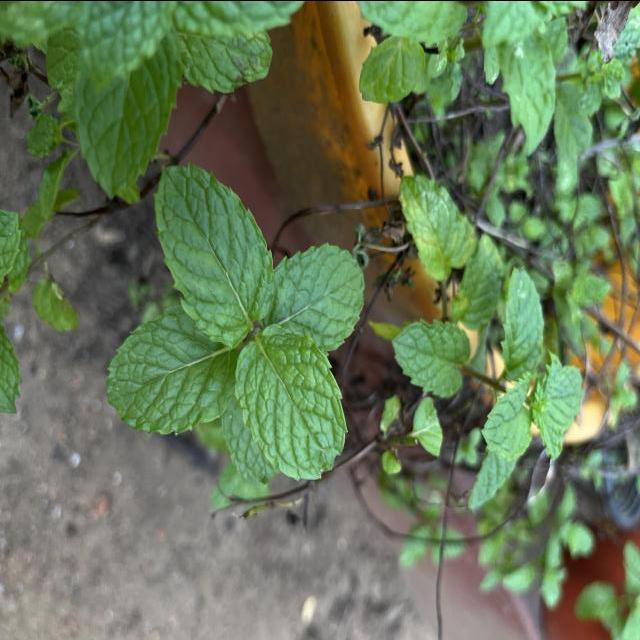Mentha spicata: (152, 160, 276, 350), (232, 320, 350, 480), (106, 303, 236, 437), (273, 240, 366, 356), (391, 317, 472, 399)
